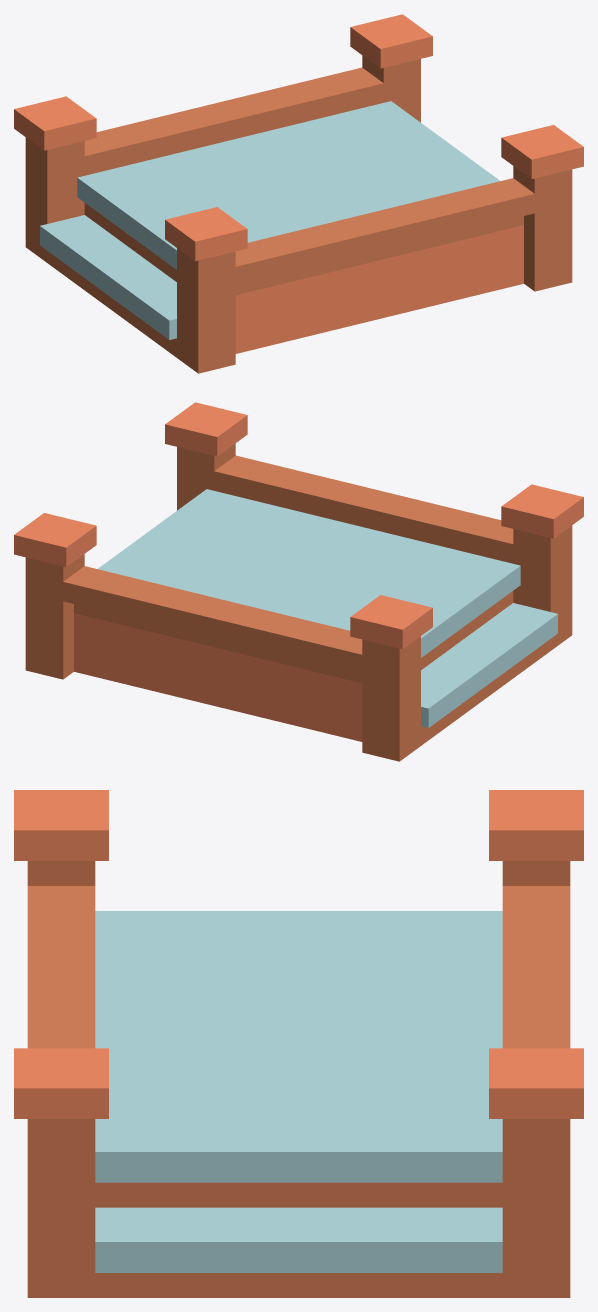
3 renders of one model, top to bottom at view 1: azimuth 30°, elevation 25°; view 2: azimuth 150°, elevation 25°; view 3: azimuth 270°, elevation 25°, orthographic. The views are drawn at different scales.
Visible parts, largest first — view 1: bridge_woodNarrow; view 2: bridge_woodNarrow; view 3: bridge_woodNarrow.
Boxes of the visible parts, box(x1,y1,x2,y2) form: bridge_woodNarrow: box(14, 14, 583, 373); bridge_woodNarrow: box(14, 402, 583, 761); bridge_woodNarrow: box(14, 790, 583, 1297).
Size of the model in its own units: 1.04 by 0.35 by 0.84.
